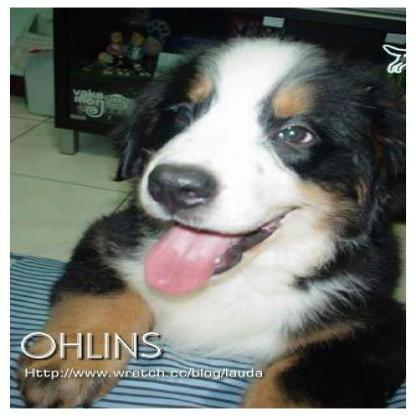Bernese_mountain_dog: (15, 34, 402, 407)
